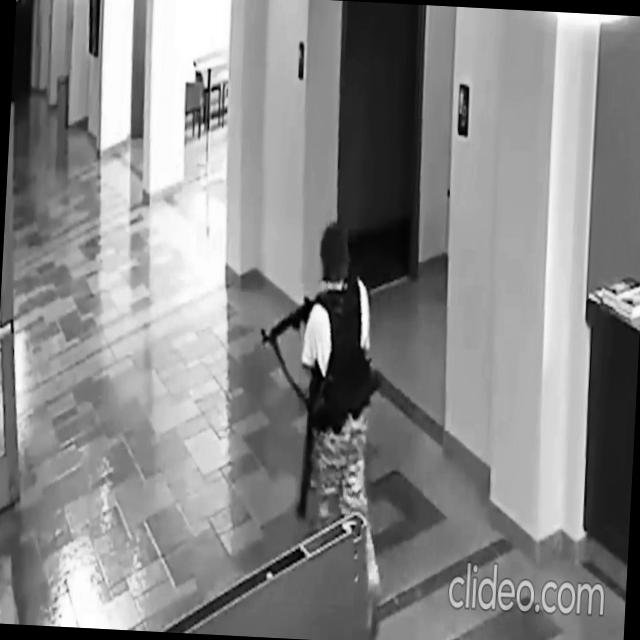gun: (294, 361, 322, 521), (260, 287, 322, 354)
person with a gun: (248, 217, 403, 604)
